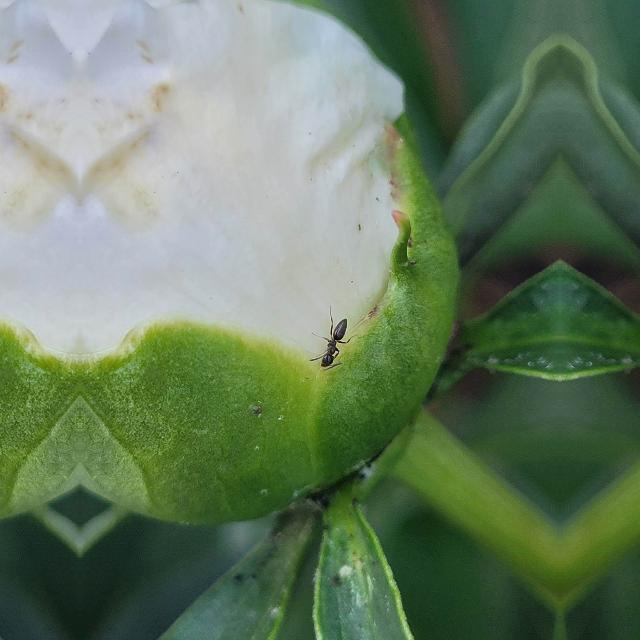Tapinoma: (315, 314, 355, 378)
